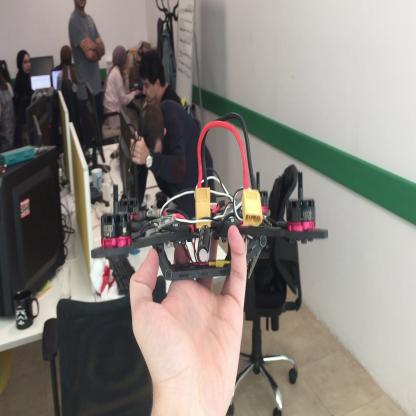drone: (86, 173, 336, 294)
